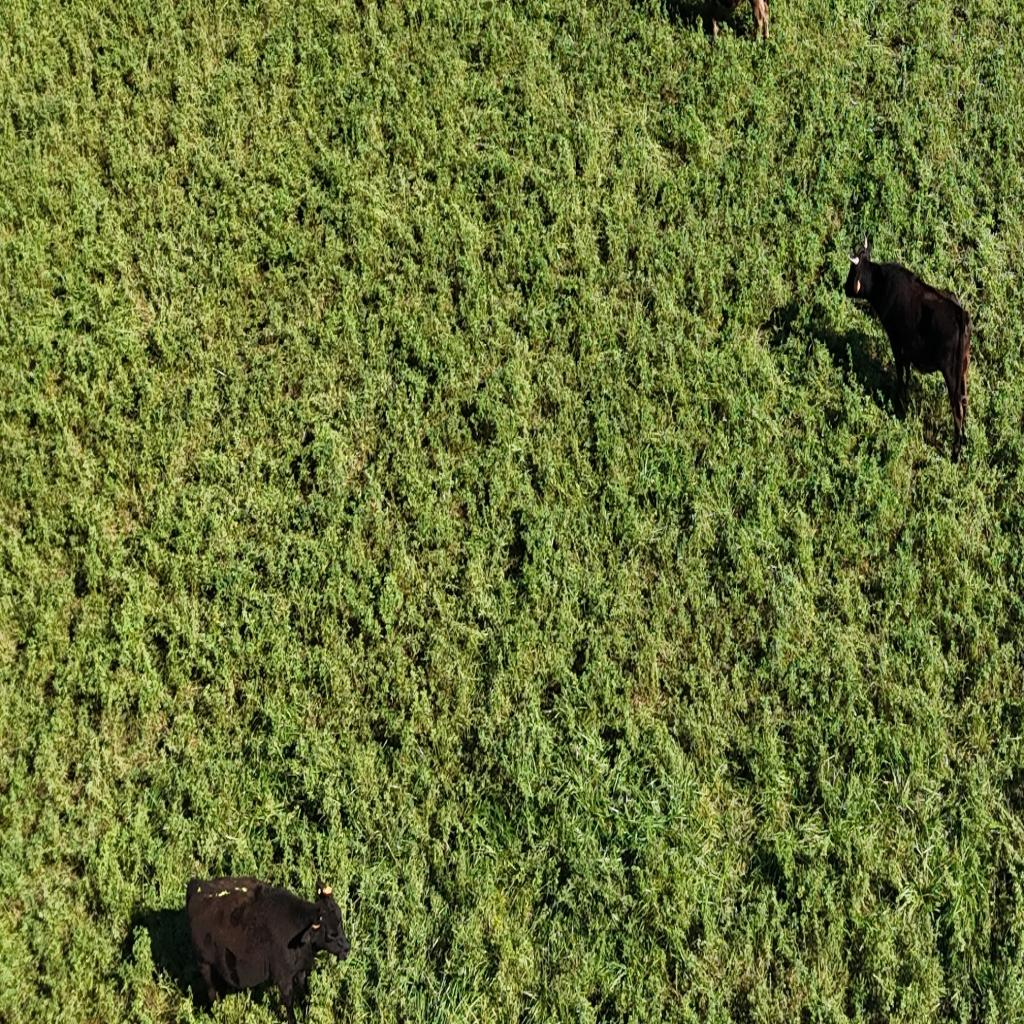cow: (838, 224, 970, 466), (179, 864, 358, 1022)
